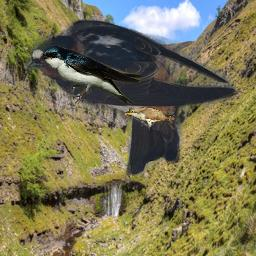Cuckoo: (123, 107, 176, 132)
Swallow: (25, 16, 240, 176), (40, 45, 147, 108)
